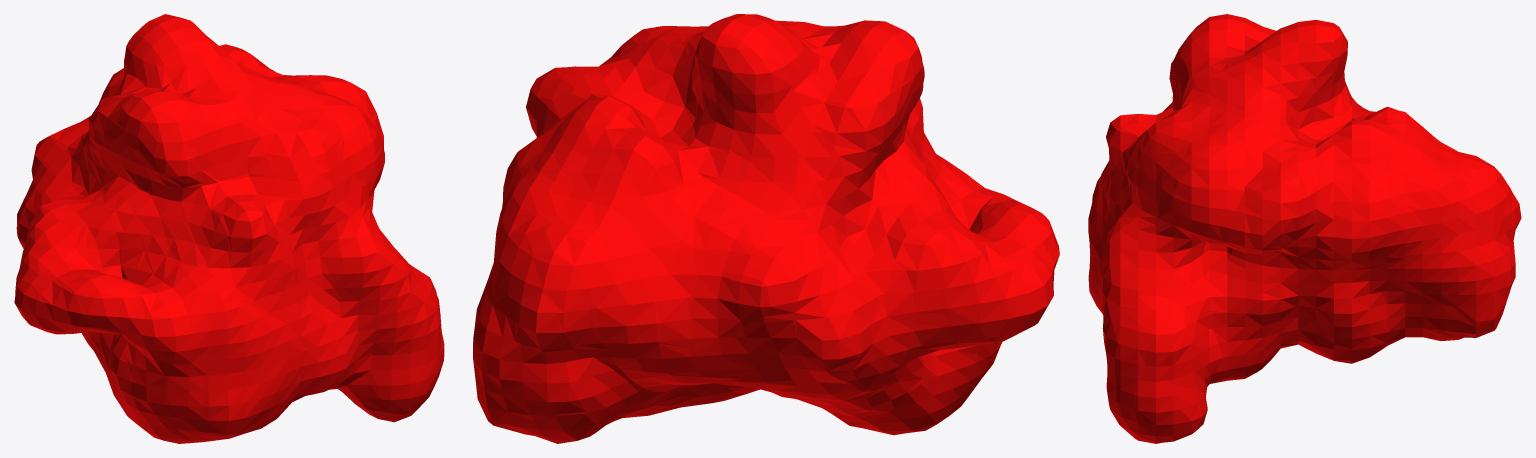
File: yeeE_coarse.dae
3 views of the same model, side by side, from view 1: azimuth 30°, elevation 25°; view 2: azimuth 150°, elevation 25°; view 3: azimuth 270°, elevation 25° (orthographic). The views are drawn at different scales.
Parts seen in each view (by area): view 1: yeeE; view 2: yeeE; view 3: yeeE.
Part boxes in pixels (x1,y1,x2,y2): yeeE: (14, 14, 444, 443); yeeE: (473, 14, 1059, 443); yeeE: (1088, 14, 1521, 443).
Size of the model in its own units: 60.11 by 55.66 by 61.82.
